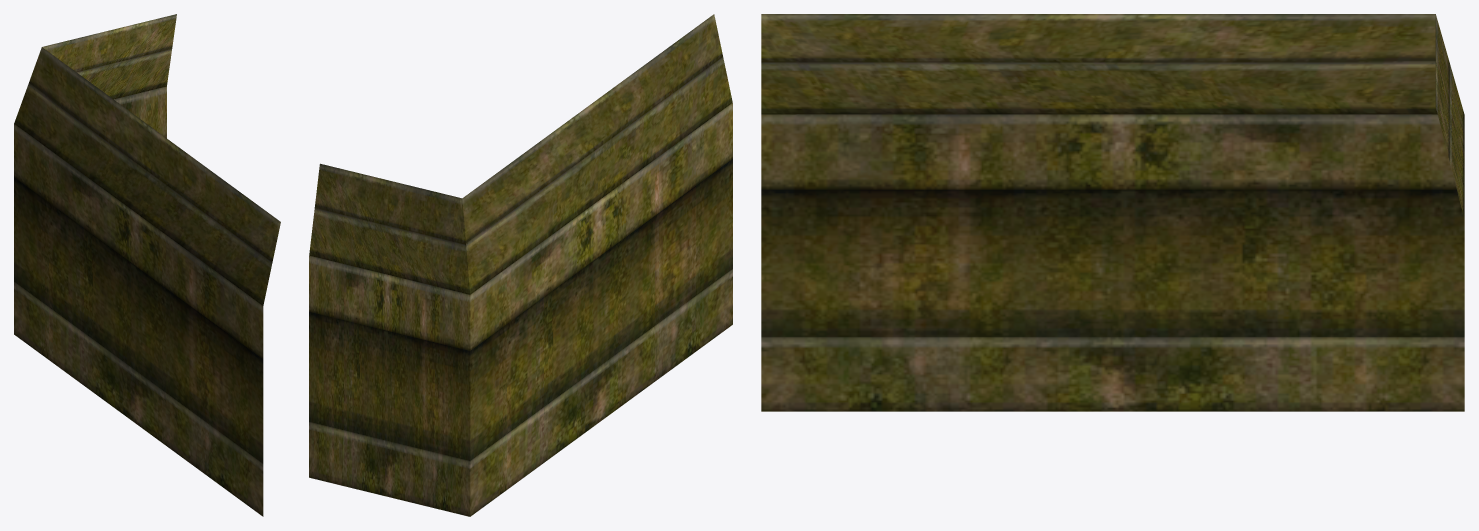
The model's file is OVERHILL_A_01_OBJECT83.fbx.
The picture shows the model from 3 angles, left to right: view 1: azimuth 30°, elevation 25°; view 2: azimuth 150°, elevation 25°; view 3: azimuth 270°, elevation 25°; orthographic projection. The views are drawn at different scales.
Parts seen in each view (by area): view 1: OVERHILL_A_01_OBJECT83; view 2: OVERHILL_A_01_OBJECT83; view 3: OVERHILL_A_01_OBJECT83.
Boxes of the visible parts, <box> form: OVERHILL_A_01_OBJECT83: <box>14,14,280,516</box>; OVERHILL_A_01_OBJECT83: <box>309,14,732,516</box>; OVERHILL_A_01_OBJECT83: <box>761,14,1464,411</box>.
Bounding box in the file's own units: 8649 × 15713 × 24430.
2 materials, 2 textured.
